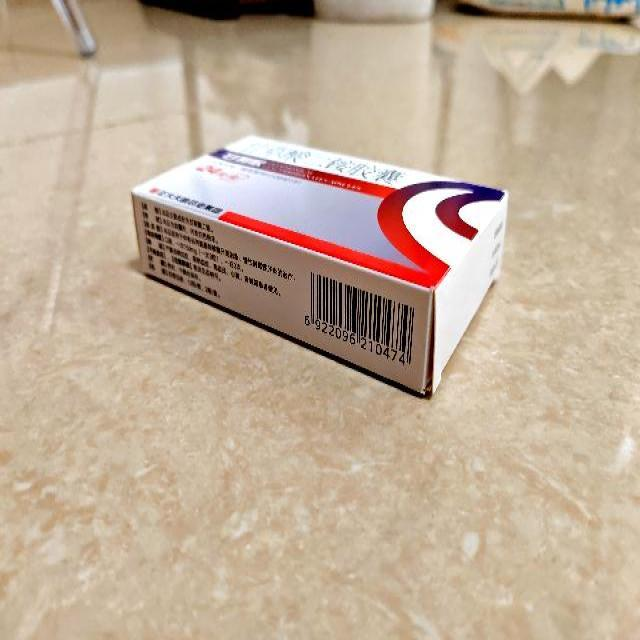box: (130, 132, 510, 396)
